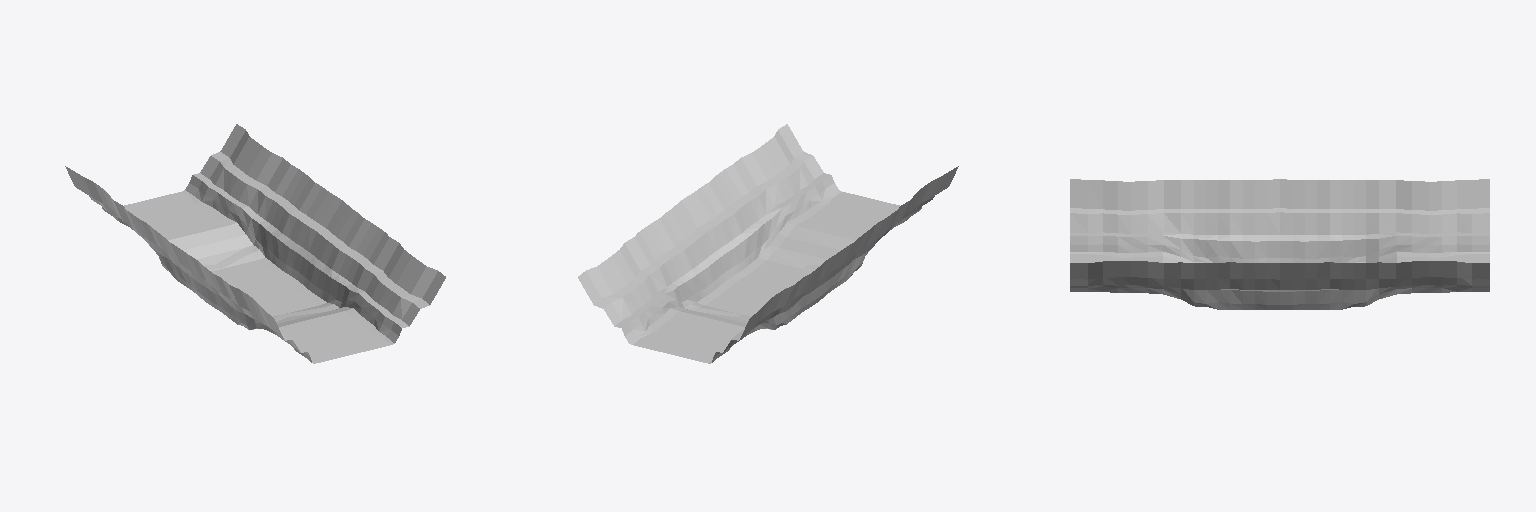
File: river.obj
3 views of the same model, side by side, from view 1: azimuth 30°, elevation 25°; view 2: azimuth 150°, elevation 25°; view 3: azimuth 270°, elevation 25° (orthographic).
Visible parts, largest first — view 1: Bridge001; view 2: Bridge001; view 3: Bridge001.
Part boxes in pixels (x1,y1,x2,y2): Bridge001: (65,124,445,363); Bridge001: (578,124,958,363); Bridge001: (1070,179,1489,309).
Size of the model in its own units: 94.99 by 36.56 by 200.